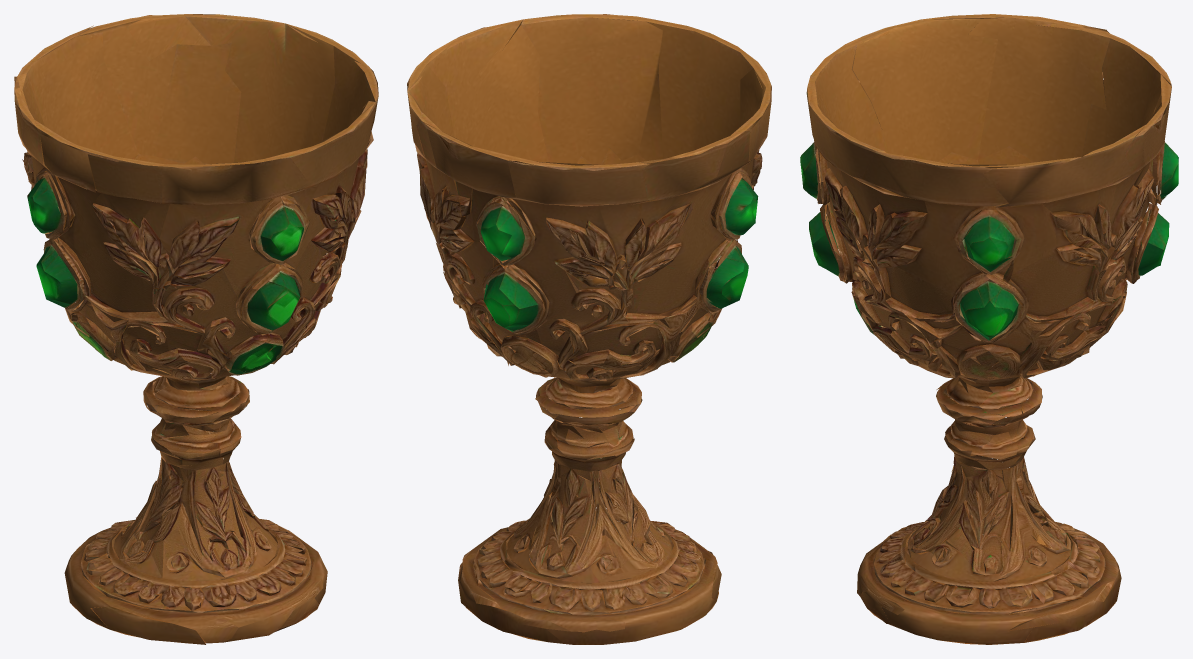
The model's file is chalice_of_life.fbx.
3 renders of one model, left to right at view 1: azimuth 30°, elevation 25°; view 2: azimuth 150°, elevation 25°; view 3: azimuth 270°, elevation 25°, orthographic.
Visible parts, largest first — view 1: chalice_of_life; view 2: chalice_of_life; view 3: chalice_of_life.
Boxes of the visible parts, x1,y1,x2,y2 form: chalice_of_life: [14, 14, 378, 644]; chalice_of_life: [407, 14, 771, 644]; chalice_of_life: [800, 14, 1178, 644].
Size of the model in its own units: 0.8264 by 1.2 by 0.8243.
Materials: 1 (1 with a texture image).
